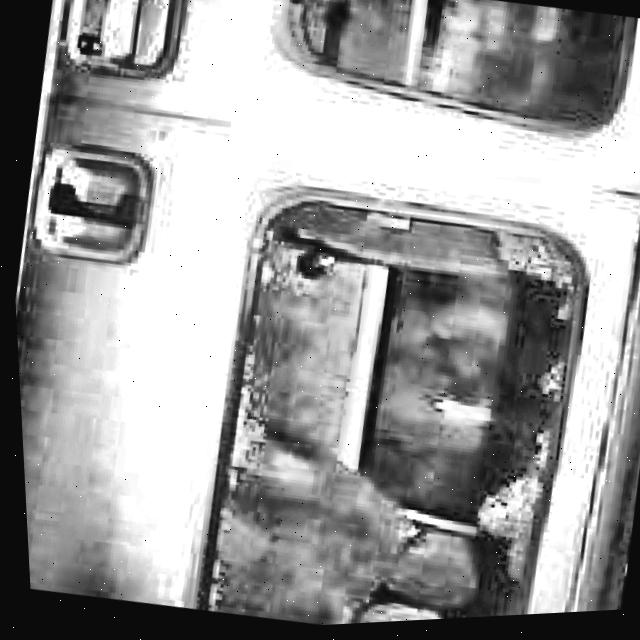glass_shatter: (197, 188, 582, 630)
